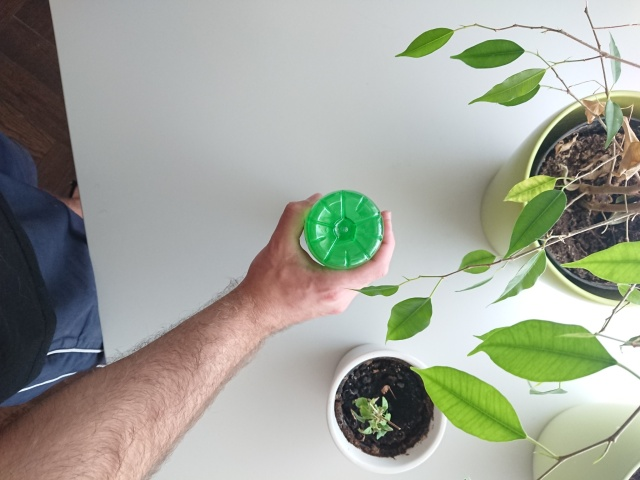Vindi Iso Sport Lemon-Grapefruit 500mL: (301, 188, 387, 273)
